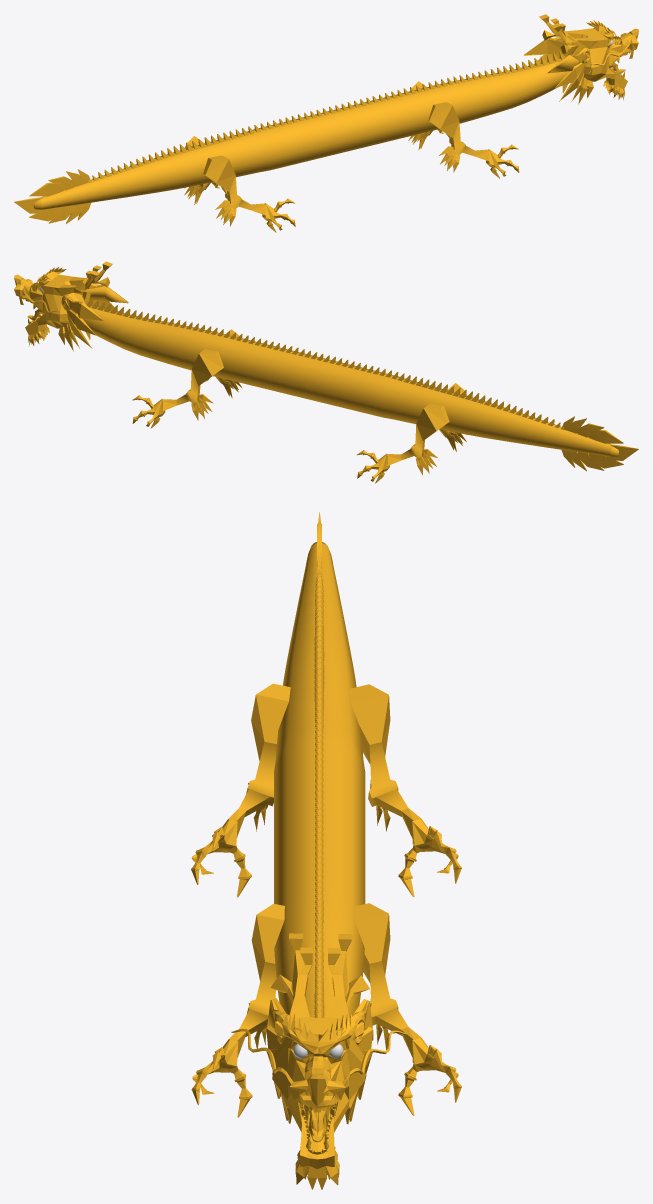
The model's file is fhdg.FBX.
The picture shows the model from 3 angles, top to bottom: view 1: azimuth 30°, elevation 25°; view 2: azimuth 150°, elevation 25°; view 3: azimuth 270°, elevation 25°; orthographic projection. The views are drawn at different scales.
Visible parts, largest first — view 1: OilTank01, Box02, leg004, leg005, leg2; view 2: OilTank01, Box02, leg2, leg1, leg004; view 3: OilTank01, Box02, leg2, leg1, leg004, leg005.
Boxes of the visible parts, bbox=[...] form: OilTank01: bbox=[14, 51, 568, 223]; Box02: bbox=[523, 14, 638, 104]; leg004: bbox=[203, 155, 295, 232]; leg005: bbox=[428, 102, 519, 178]; leg2: bbox=[184, 136, 227, 205]; OilTank01: bbox=[82, 298, 638, 471]; Box02: bbox=[14, 261, 128, 351]; leg2: bbox=[357, 403, 449, 483]; leg1: bbox=[132, 349, 223, 428]; leg004: bbox=[439, 383, 467, 452]; OilTank01: bbox=[274, 512, 365, 1018]; Box02: bbox=[231, 933, 407, 1189]; leg2: bbox=[349, 684, 461, 896]; leg1: bbox=[354, 903, 461, 1115]; leg004: bbox=[191, 683, 290, 897]; leg005: bbox=[191, 903, 284, 1117].
Bounding box in the file's own units: 14587 × 2810 × 2745.
